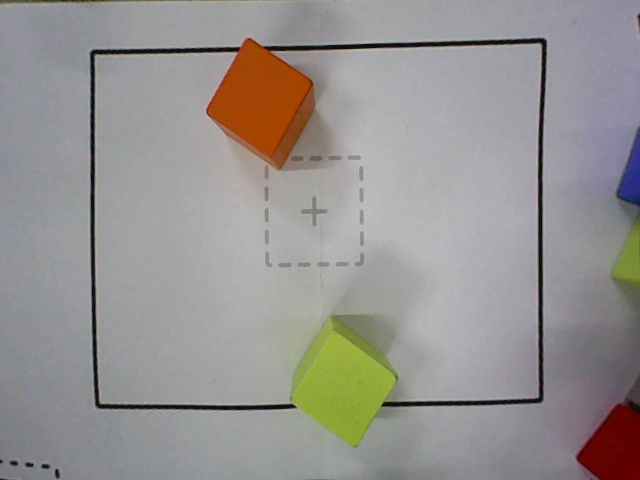upside of small cube: (207, 38, 313, 158), (291, 330, 399, 447)
